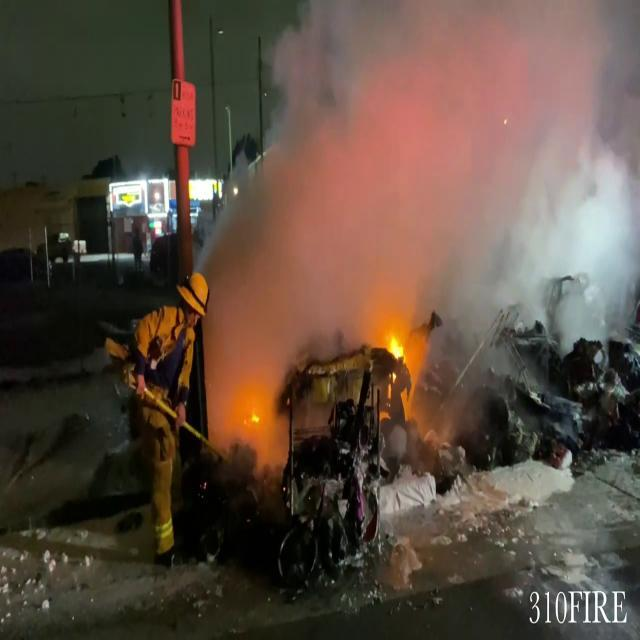Fire: (381, 322, 416, 410)
Smoke: (195, 1, 640, 406)
